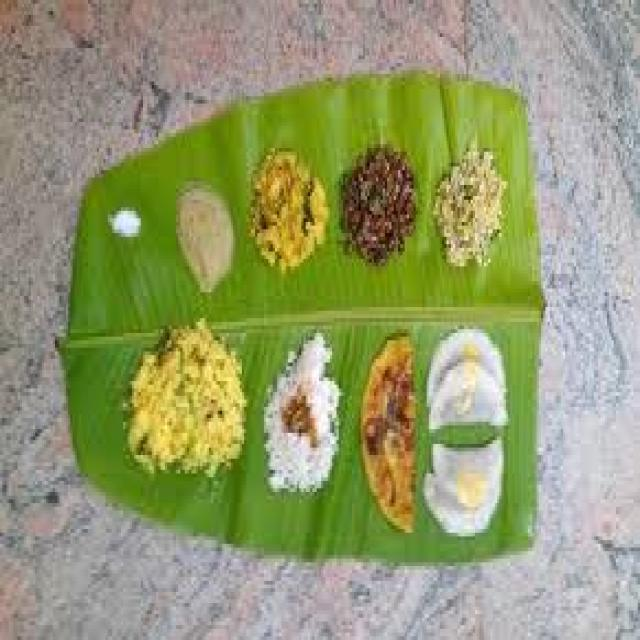papad: (354, 340, 433, 513)
pickle: (432, 143, 515, 262)
rice: (262, 335, 346, 511)
veg: (249, 154, 330, 274)
